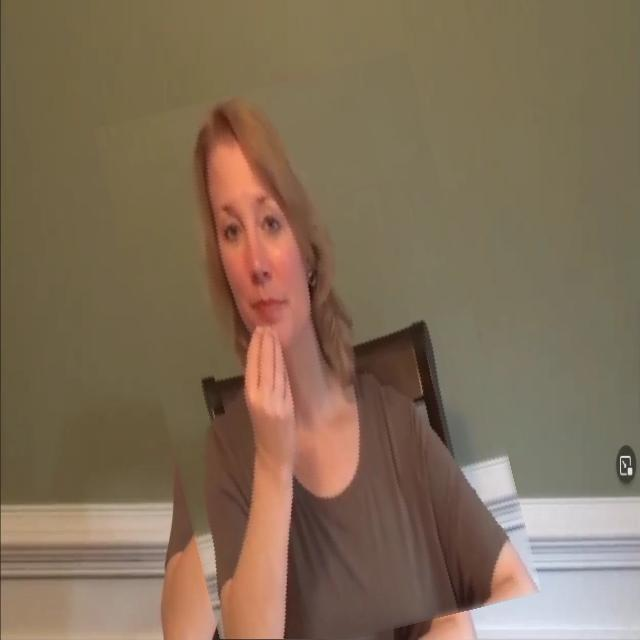Food: (125, 66, 511, 640)
